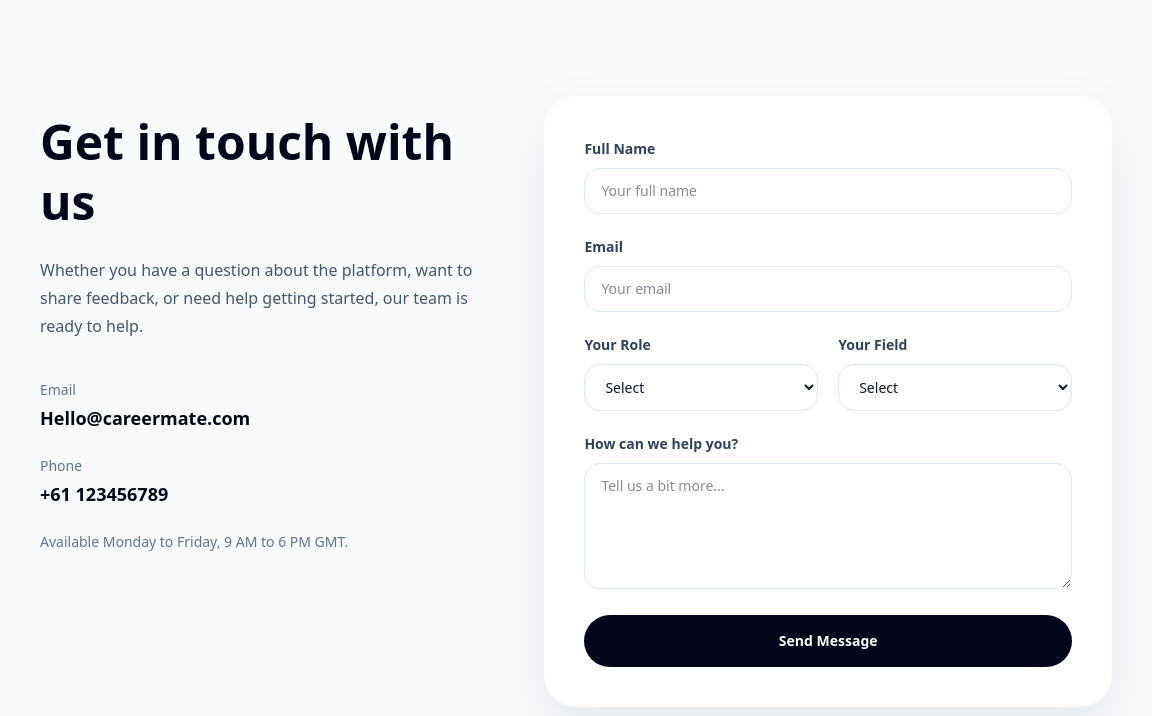
Test: Contact form › rejects invalid email format
Type "Jane Doe" into the field labelled "Full Name" at [828, 191], box [584,168,1072,214]
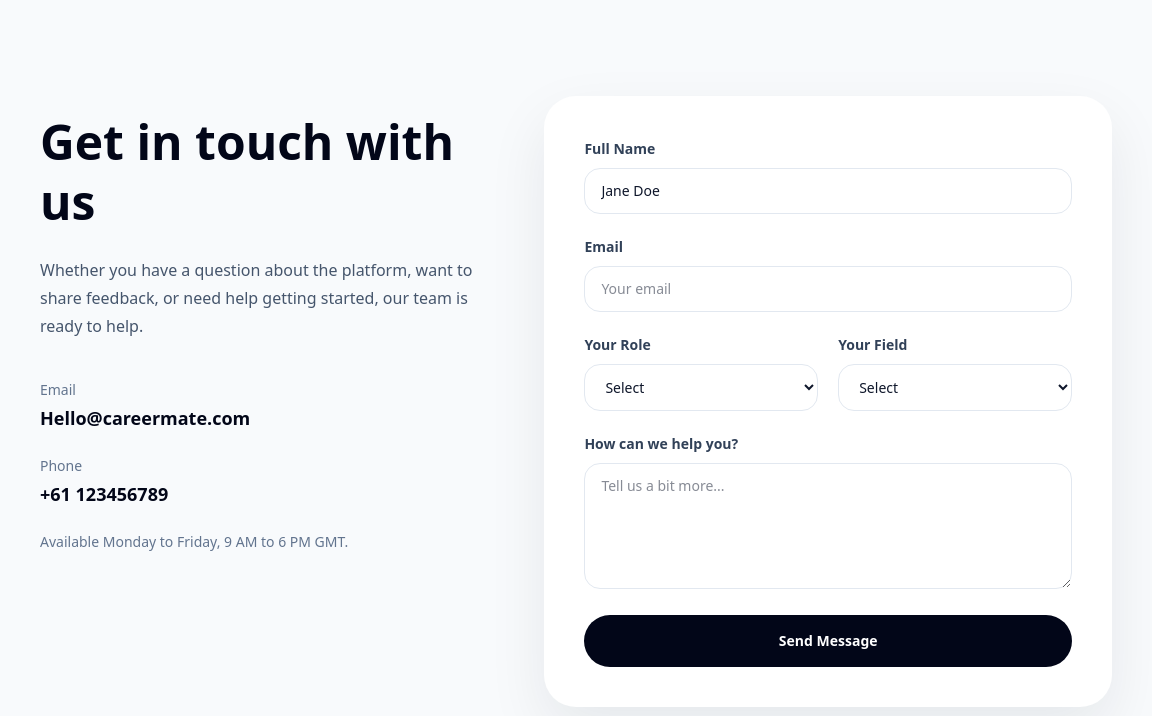
Type "notanemail" into the field labelled "Email" at [828, 289], box [584,266,1072,312]
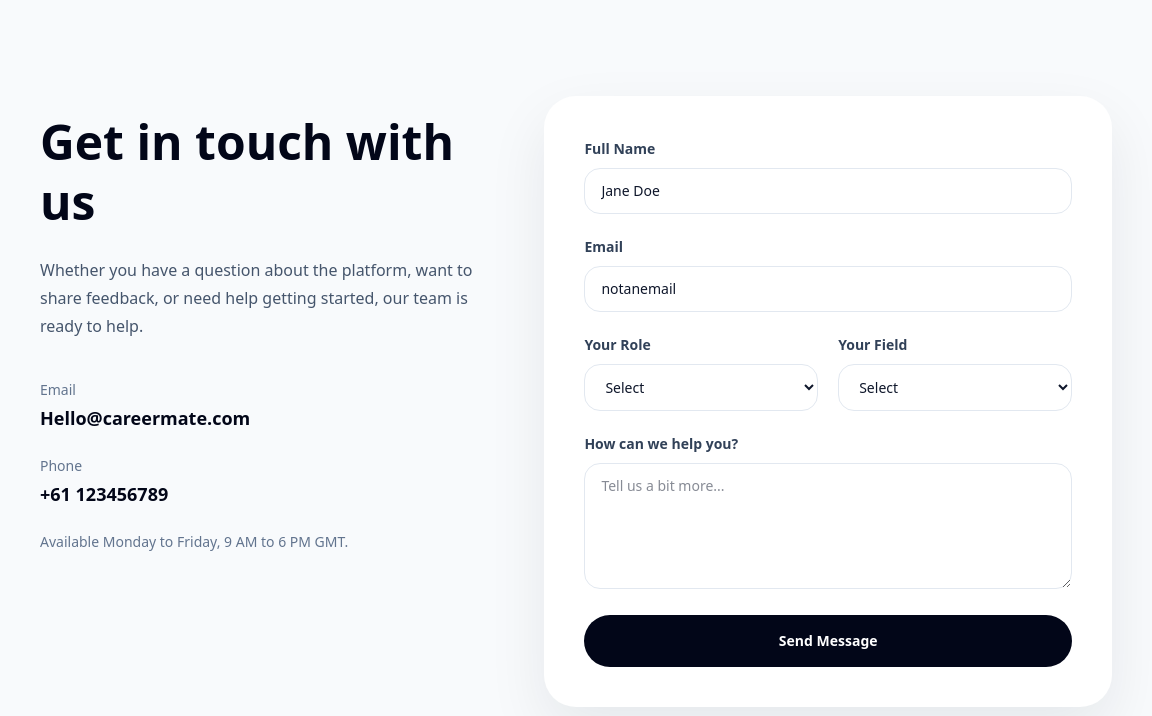
Type "This is a sufficiently long message for the form." into the text box labelled "How can we help you?" at [828, 526], box [584,463,1072,589]
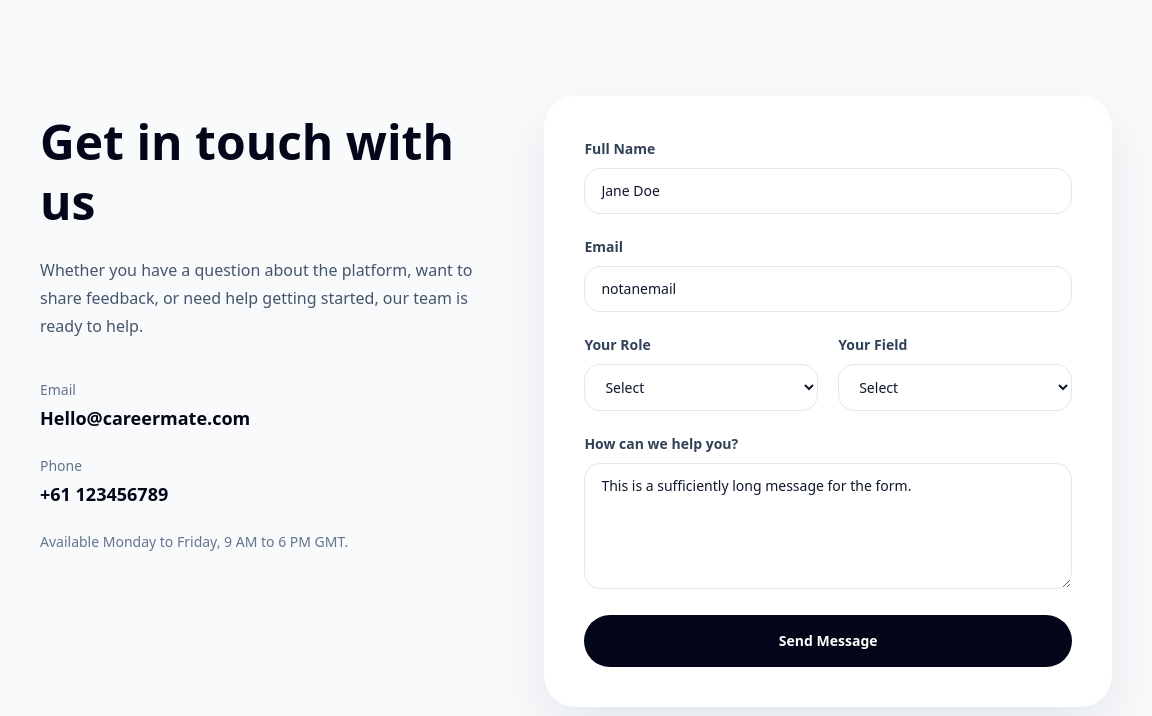
Submit the form labelled "Email", box [584,136,1072,667]
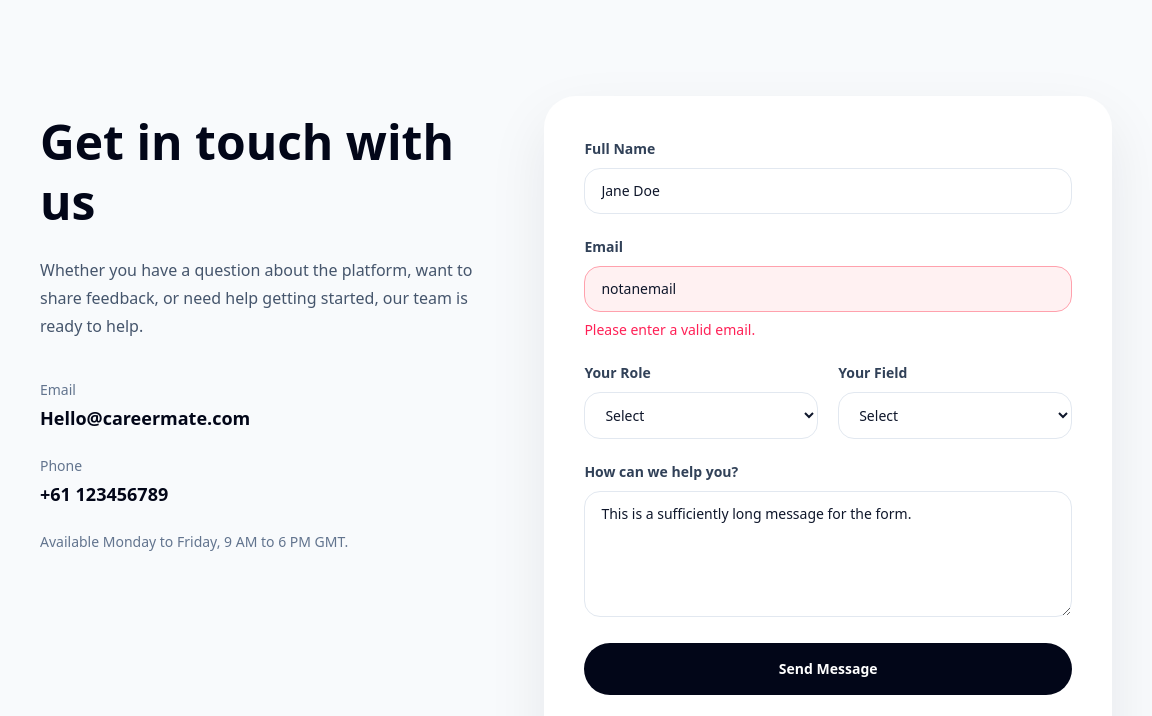
Expected: the text "Please enter a valid email." is shown, [584,320,755,339]
